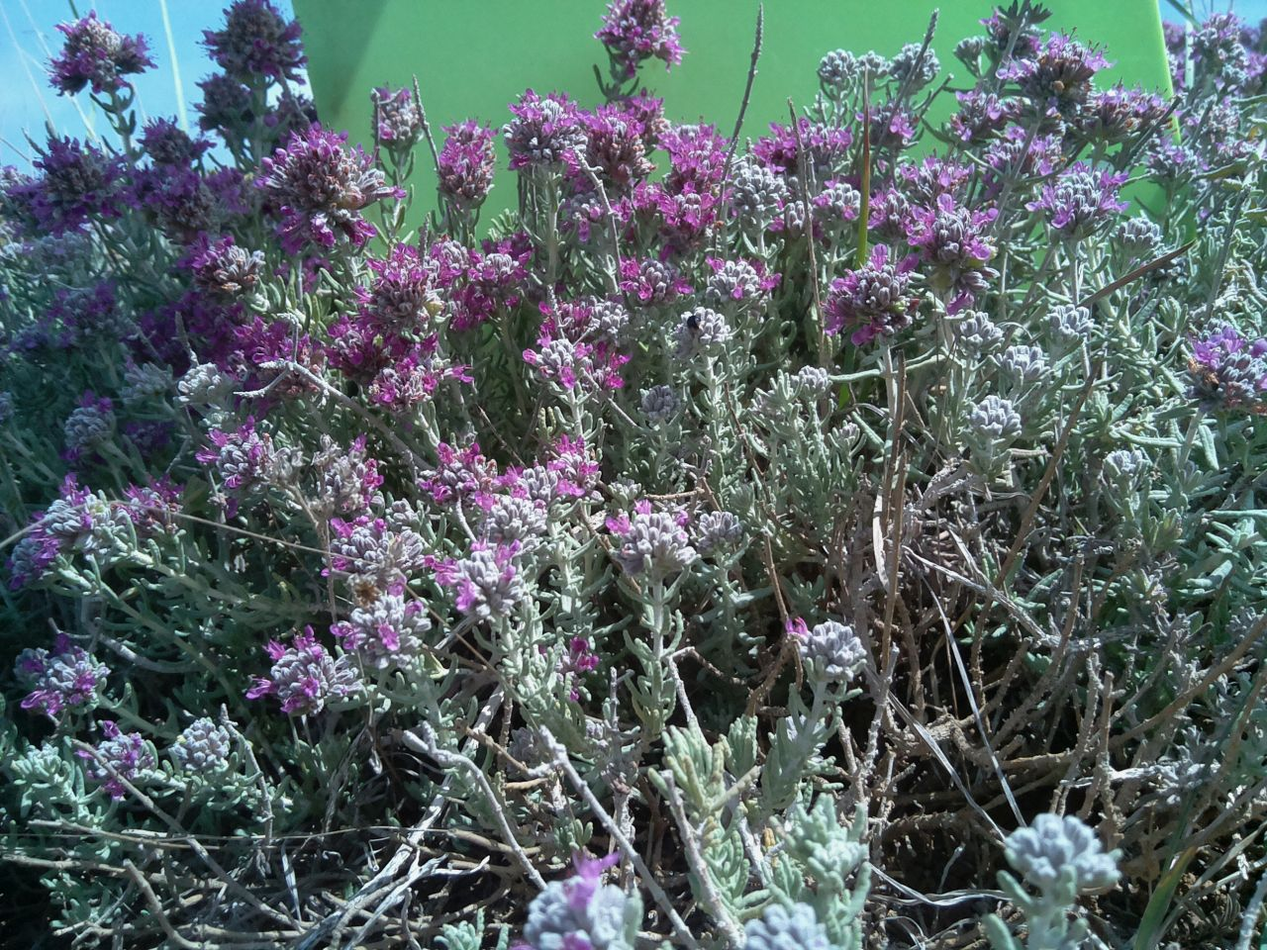Beetle: (676, 311, 711, 334)
